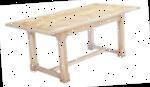Mesa: (5, 0, 144, 85)
